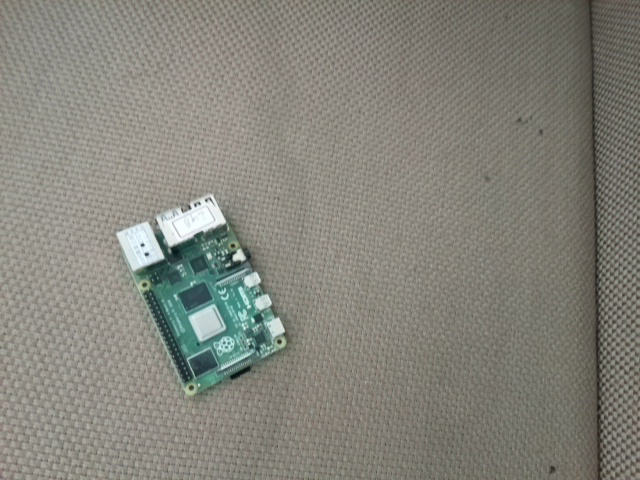Pi4: (111, 189, 293, 401)
